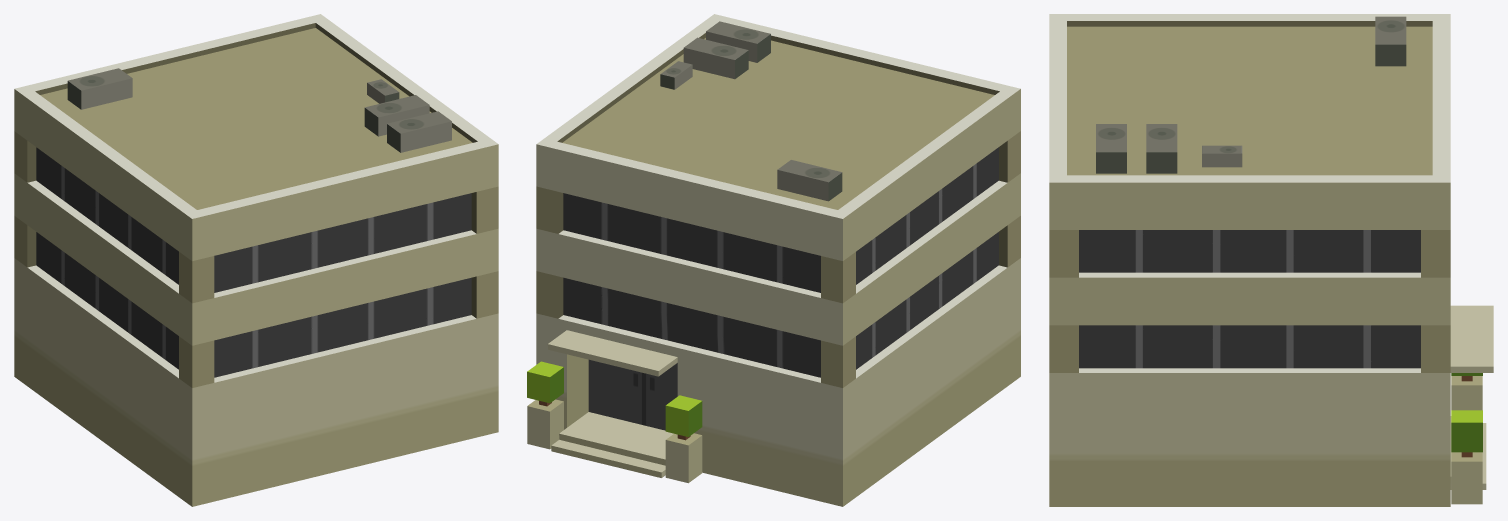
Rendered from office_small_mesh.fbx.
The picture shows the model from 3 angles, left to right: view 1: azimuth 30°, elevation 25°; view 2: azimuth 150°, elevation 25°; view 3: azimuth 270°, elevation 25°; orthographic projection. The views are drawn at different scales.
Parts seen in each view (by area): view 1: office_small_mesh; view 2: office_small_mesh; view 3: office_small_mesh.
Boxes of the visible parts, x1,y1,x2,y2 form: office_small_mesh: [14, 14, 498, 506]; office_small_mesh: [527, 14, 1020, 506]; office_small_mesh: [1049, 14, 1493, 506].
Bounding box in the file's own units: 13.62 × 12.83 × 15.17.
